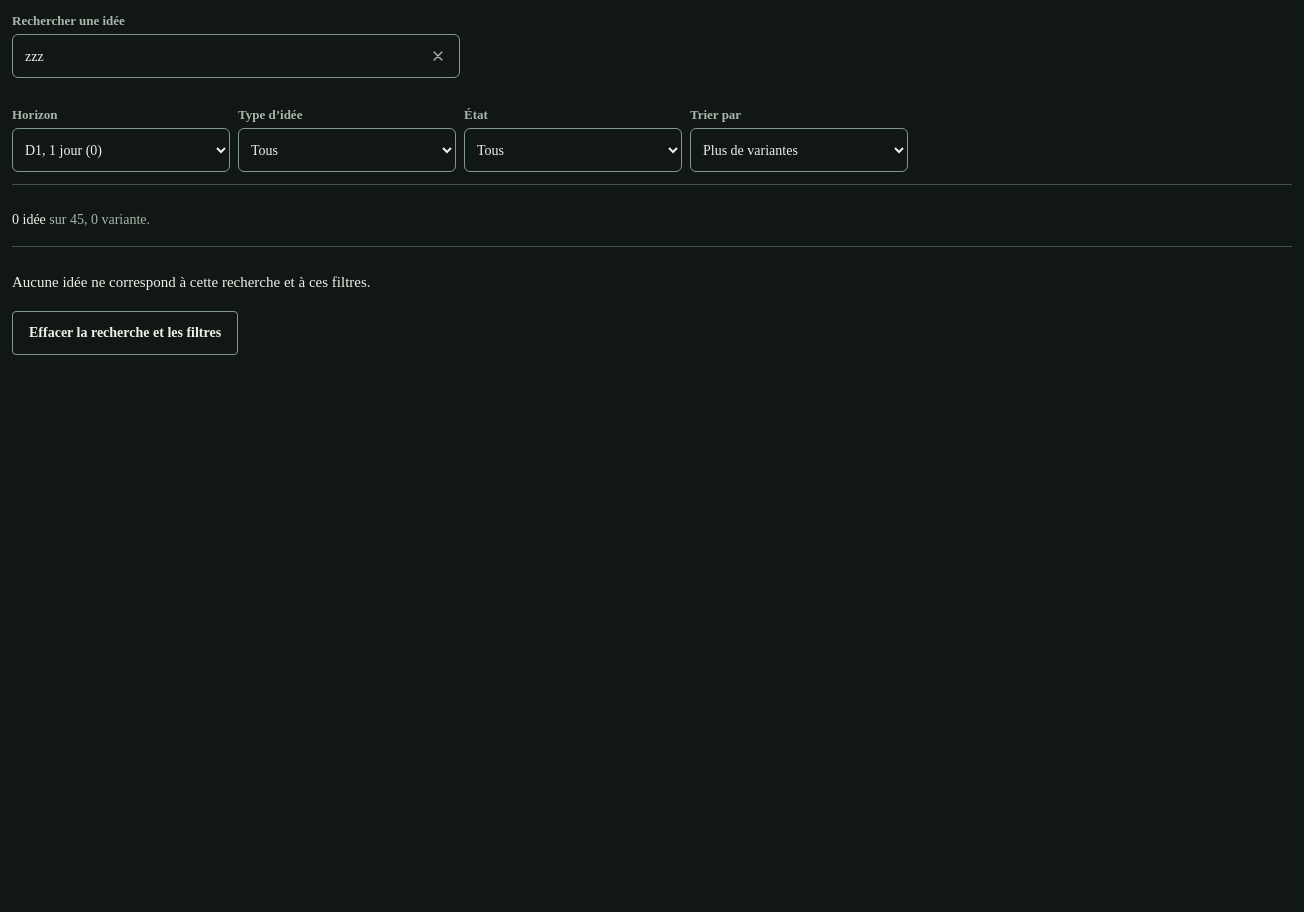
LibraryIndex, the empty state (audit n° 40) › offers its own reset at every width, and the bar drops its own
expect the element with test id "library-empty" shows "Aucune idée ne correspond": met, box [12,274,371,290]
expect the message with test id "library-count" reads "0 idée sur 45, 0 variante.": met, box [12,212,150,227]
Step 1. Click the button "Effacer la recherche et les filtres" → [125, 333], box [12,311,238,355]
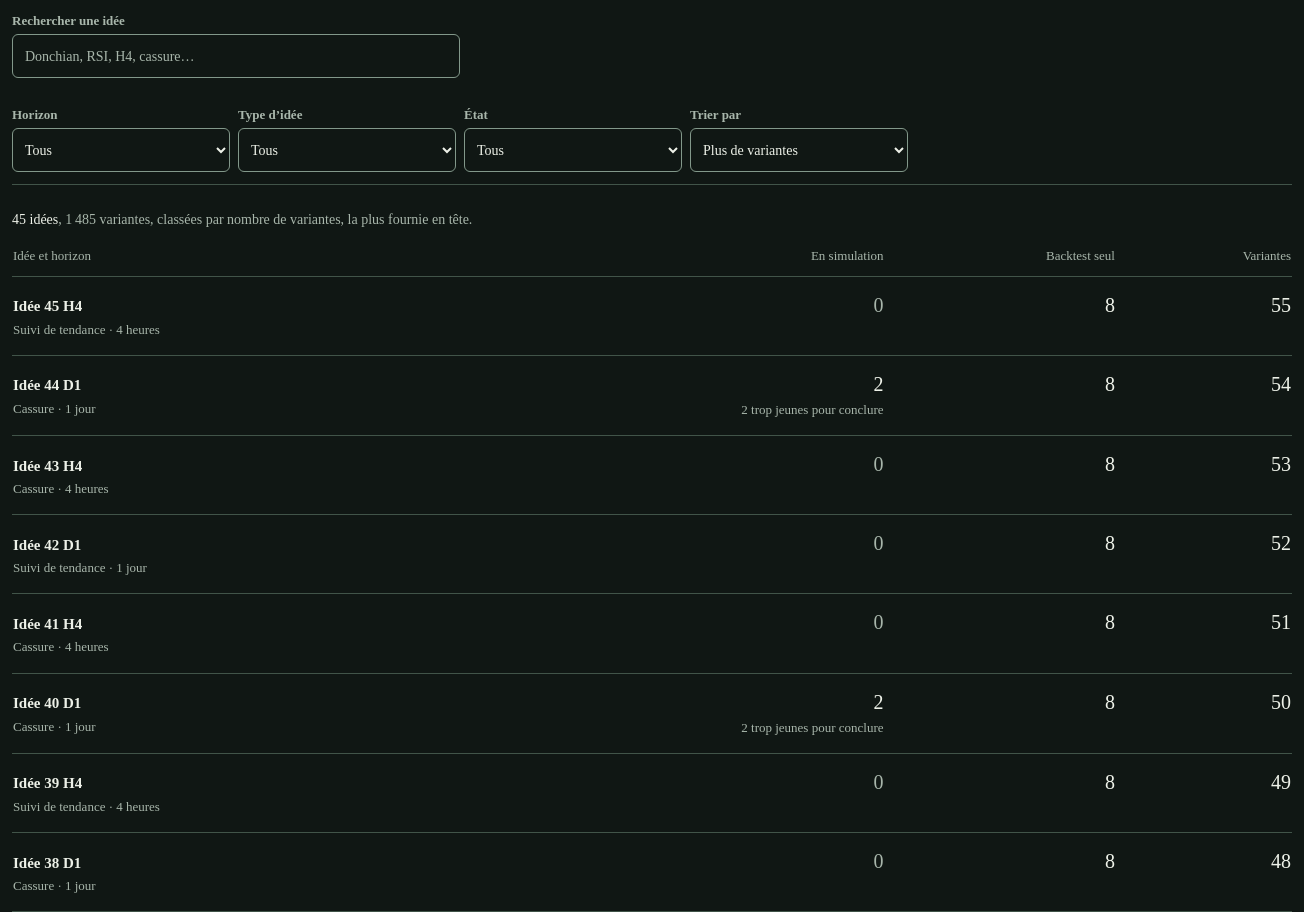
expect the number of links "Idée 45 H4" is 30: met
